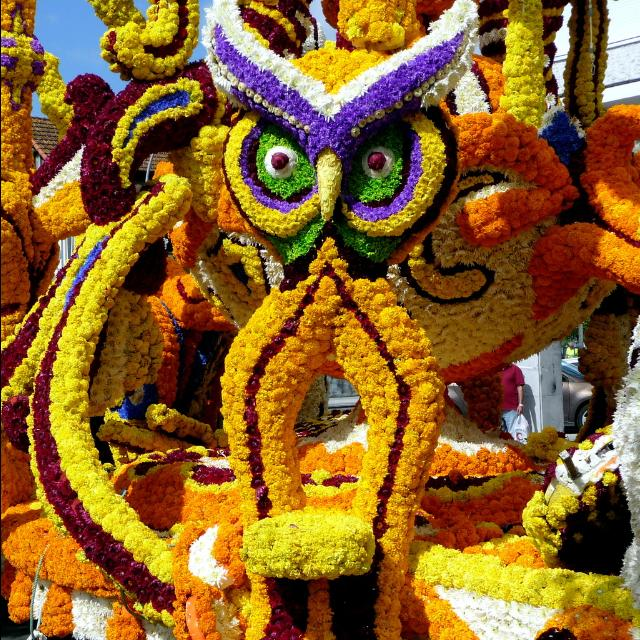Flower: (0, 1, 638, 640), (604, 470, 618, 492)
